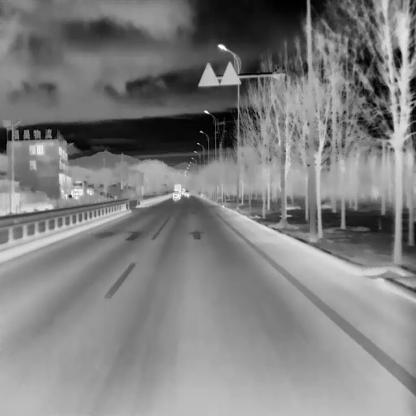car: (171, 190, 180, 200), (183, 190, 189, 197)
truck: (173, 183, 181, 195)
